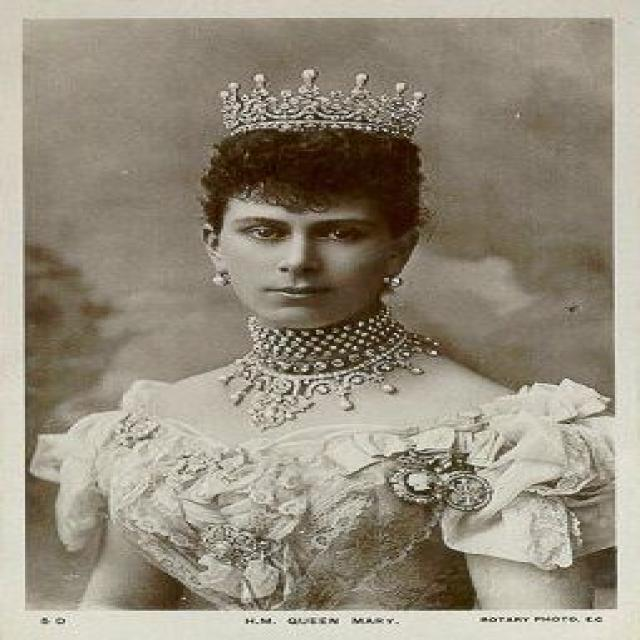Earring: (381, 270, 416, 299), (198, 265, 230, 296)
